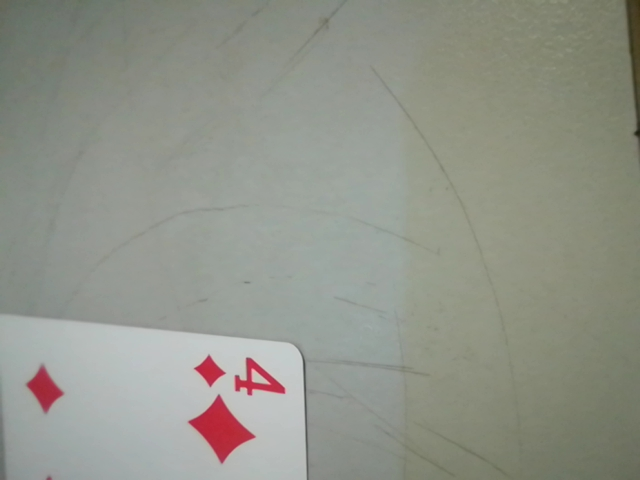fk 4: (186, 344, 297, 415)
